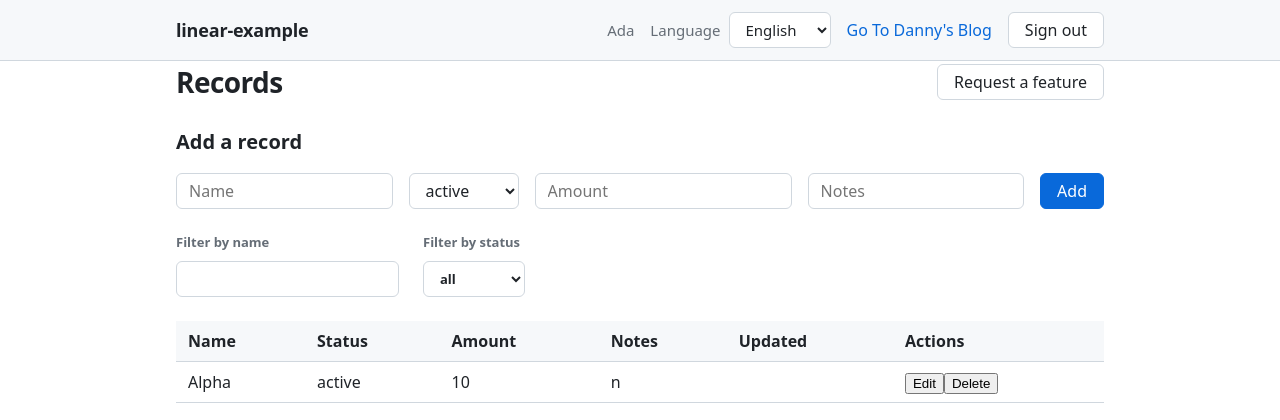
Test case: AuthGate · sign-out › returns to the signed-out state when the user signs out
Expected: the text "Alpha" is shown, x1=176 y1=361 x2=305 y2=402
What coordinates should you click on to do the following:
click the button "Sign out"
I would click on:
 (1056, 30)
Its box is x1=1008 y1=12 x2=1104 y2=48.
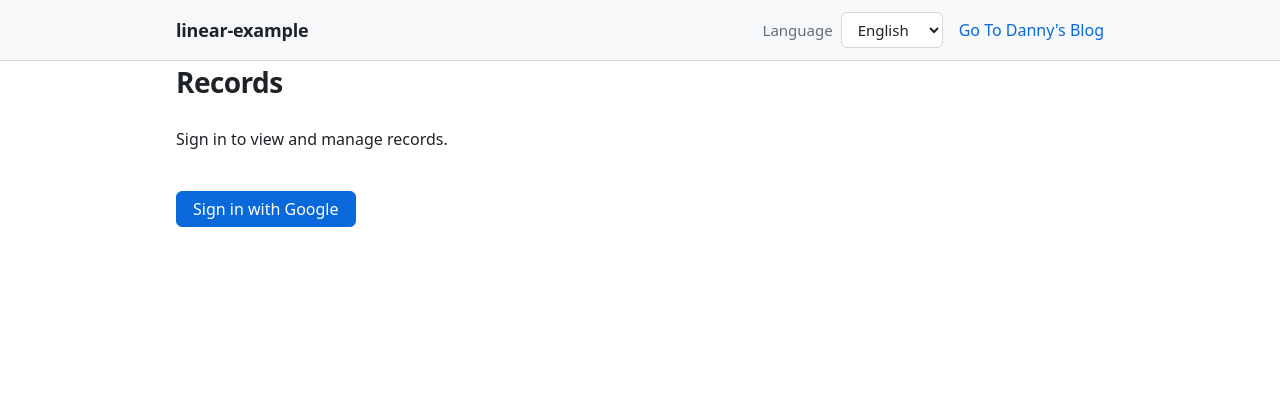
Now the button "Sign in with Google" is shown, box x1=176 y1=191 x2=356 y2=227
Now the text "Alpha" is gone
